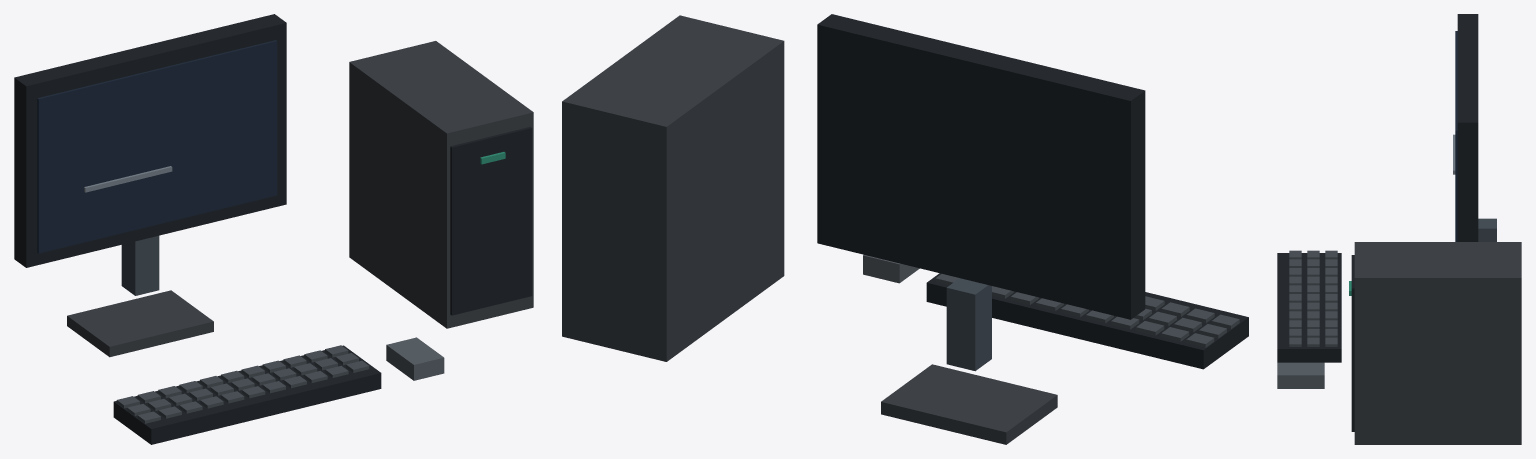
Rendered from computador.obj.
3 views of the same model, side by side, from view 1: azimuth 30°, elevation 25°; view 2: azimuth 150°, elevation 25°; view 3: azimuth 270°, elevation 25° (orthographic). The views are drawn at different scales.
Parts seen in each view (by area): view 1: Computador__TelaPainel, Computador__Gabinete, Computador__TelaEstrutura, Computador__GabineteFrente, Computador__Teclado, Computador__Teclas, Computador__Base, Computador__Haste, Computador__Mouse, Computador__TelaReflexo; view 2: Computador__TelaEstrutura, Computador__Gabinete, Computador__Base, Computador__Teclado, Computador__Teclas, Computador__Haste, Computador__Mouse; view 3: Computador__Gabinete, Computador__TelaEstrutura, Computador__Teclado, Computador__Teclas, Computador__Mouse, Computador__GabineteFrente, Computador__TelaPainel, Computador__Haste.
Boxes of the visible parts, x1,y1,x2,y2 form: Computador__TelaPainel: (37, 40, 277, 253); Computador__Gabinete: (349, 41, 533, 328); Computador__TelaEstrutura: (14, 14, 286, 267); Computador__GabineteFrente: (450, 126, 532, 315); Computador__Teclado: (113, 345, 381, 444); Computador__Teclas: (116, 345, 369, 423); Computador__Base: (67, 290, 213, 357); Computador__Haste: (121, 235, 159, 295); Computador__Mouse: (386, 337, 444, 380); Computador__TelaReflexo: (84, 166, 172, 192); Computador__TelaEstrutura: (817, 14, 1145, 319); Computador__Gabinete: (562, 15, 784, 361); Computador__Base: (881, 364, 1057, 444); Computador__Teclado: (926, 273, 1248, 369); Computador__Teclas: (935, 274, 1239, 347); Computador__Haste: (946, 278, 991, 371); Computador__Mouse: (863, 255, 919, 283); Computador__Gabinete: (1354, 242, 1521, 444); Computador__TelaEstrutura: (1457, 14, 1478, 241); Computador__Teclado: (1277, 253, 1341, 362); Computador__Teclas: (1289, 250, 1337, 346); Computador__Mouse: (1277, 362, 1324, 388); Computador__GabineteFrente: (1351, 255, 1354, 431); Computador__TelaPainel: (1455, 31, 1457, 241); Computador__Haste: (1478, 218, 1496, 241).
Bounding box in the file's own units: 1.03 × 0.63 × 0.57.
